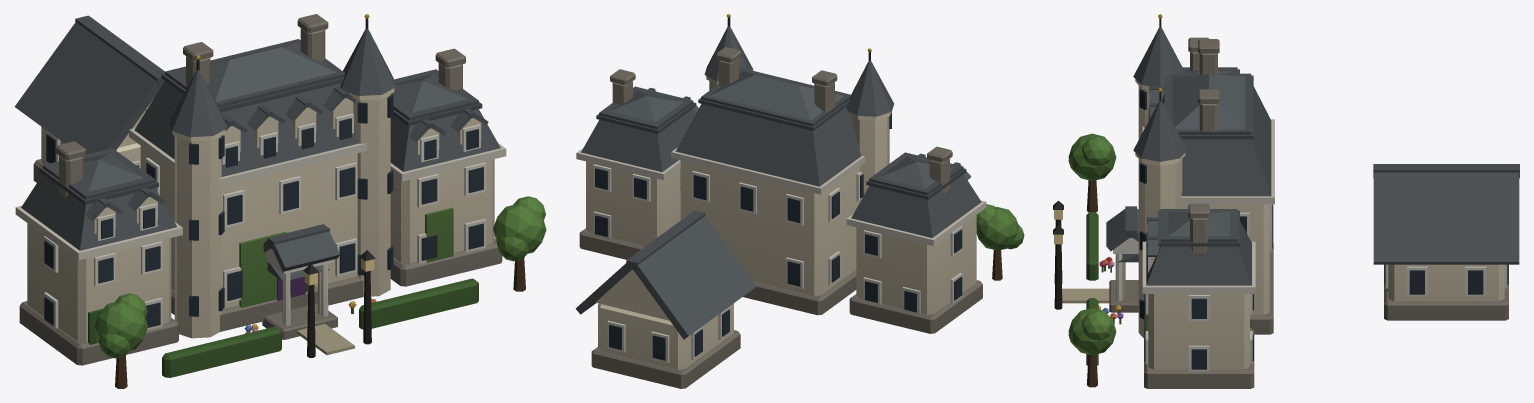
Rendered from mansion.glb.
3 renders of one model, left to right at view 1: azimuth 30°, elevation 25°; view 2: azimuth 150°, elevation 25°; view 3: azimuth 270°, elevation 25°, orthographic. The views are drawn at different scales.
Parts seen in each view (by area): view 1: mansion_model; view 2: mansion_model; view 3: mansion_model.
Part boxes in pixels (x1,y1,x2,y2): mansion_model: (14, 14, 546, 388); mansion_model: (575, 14, 1024, 388); mansion_model: (1053, 14, 1519, 388).
Bounding box in the file's own units: 1.92 × 1.14 × 1.93.
